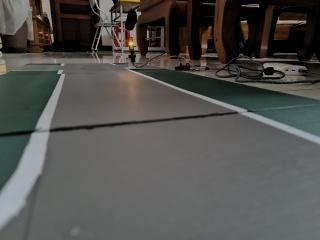yellow: (123, 32, 139, 56)
